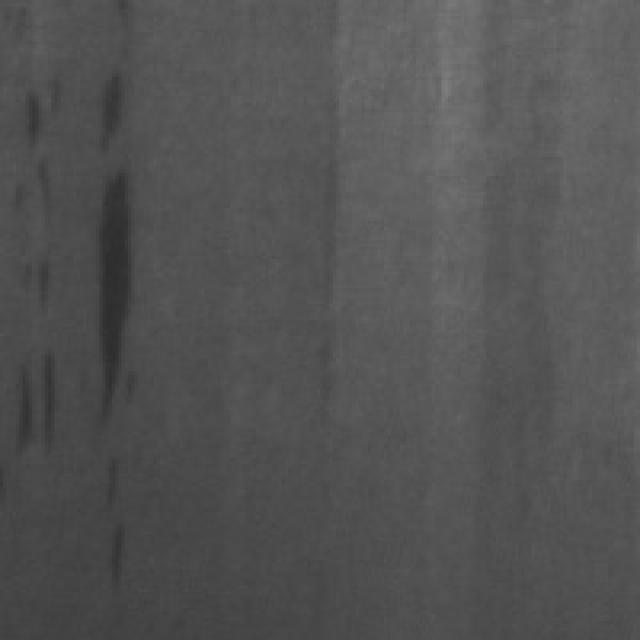inclusion: (461, 19, 554, 579), (288, 7, 358, 436), (64, 148, 141, 438), (83, 435, 144, 605), (3, 157, 58, 339), (6, 333, 64, 464), (6, 61, 61, 163), (86, 58, 132, 154)
